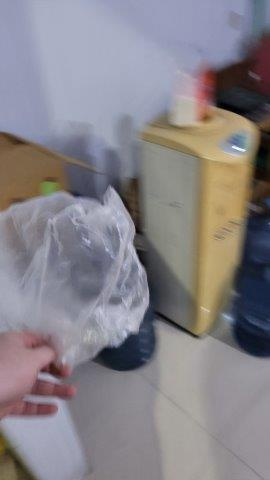plastik: (1, 186, 153, 374)
